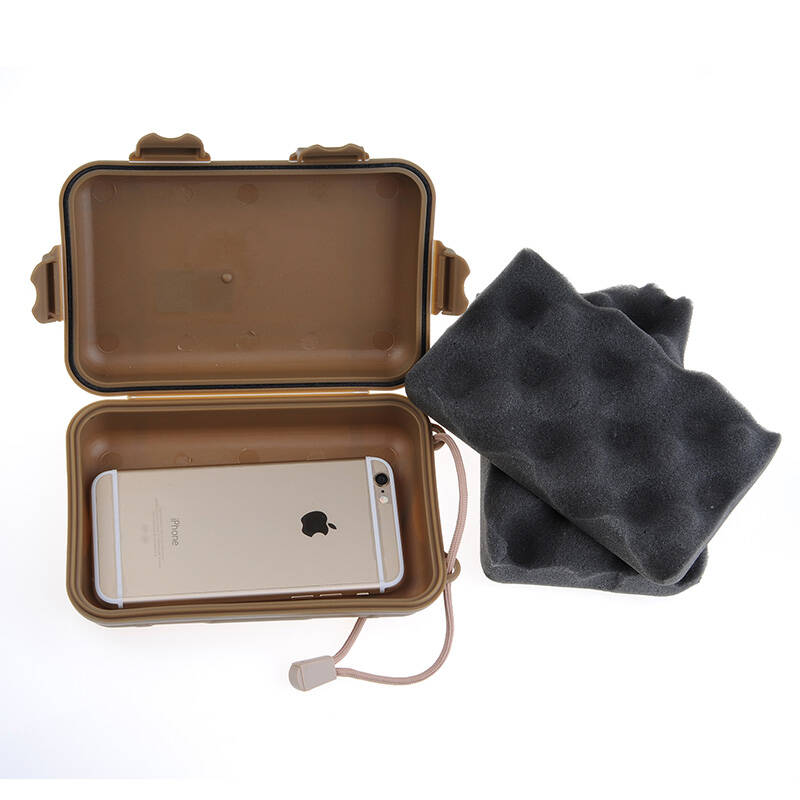flexible: (415, 247, 787, 600)
